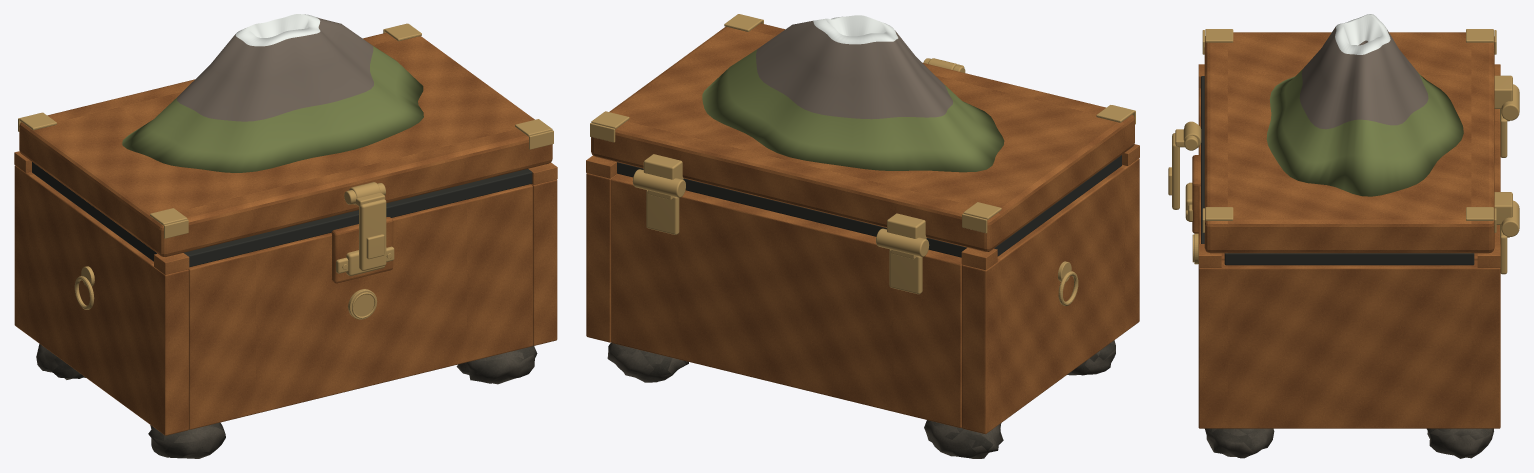
File: tanzania.glb
The picture shows the model from 3 angles, left to right: view 1: azimuth 30°, elevation 25°; view 2: azimuth 150°, elevation 25°; view 3: azimuth 270°, elevation 25°; orthographic projection.
Parts seen in each view (by area): view 1: Ochre / front, Lid / polished slab, Terrain / Kibo crater and shoulder, Ochre / side, Mineral seam / long, Ochre / side.001, Volcanic foot, Volcanic foot.002, Latch / lifting hasp, Ochre / clasp seat, Mineral seam / side, Volcanic foot.001 (+2 smaller); view 2: Ochre / rear, Lid / polished slab, Terrain / Kibo crater and shoulder, Ochre / side, Ochre / side.001, Mineral seam / long.001, Volcanic foot.001, Volcanic foot.003, Mineral seam / side, Hinge / fixed mount, Hinge / fixed mount.001, Hinge / fixed barrel.001 (+5 smaller); view 3: Ochre / side.001, Lid / polished slab, Terrain / Kibo crater and shoulder, Mineral seam / side.001, Volcanic foot.002, Volcanic foot.003, Ochre / rear, Mineral seam / long, Ochre / clasp seat, Hinge / moving leaf, Latch / lifting hasp, Hinge / moving leaf.001 (+8 smaller).
Part boxes in pixels (x1=…): Ochre / front: x1=188, y1=184, x2=532, y2=429; Lid / polished slab: x1=19, y1=32, x2=552, y2=256; Terrain / Kibo crater and shoulder: x1=122, y1=14, x2=423, y2=172; Ochre / side: x1=14, y1=165, x2=188, y2=435; Mineral seam / long: x1=183, y1=169, x2=532, y2=267; Ochre / side.001: x1=531, y1=179, x2=557, y2=345; Volcanic foot: x1=148, y1=422, x2=225, y2=458; Volcanic foot.002: x1=456, y1=345, x2=537, y2=384; Latch / lifting hasp: x1=359, y1=199, x2=386, y2=270; Ochre / clasp seat: x1=331, y1=217, x2=393, y2=283; Mineral seam / side: x1=32, y1=162, x2=156, y2=261; Volcanic foot.001: x1=36, y1=344, x2=85, y2=379; Ochre / rear: x1=611, y1=174, x2=961, y2=427; Lid / polished slab: x1=591, y1=23, x2=1134, y2=251; Terrain / Kibo crater and shoulder: x1=702, y1=15, x2=1004, y2=172; Ochre / side: x1=962, y1=158, x2=1139, y2=434; Ochre / side.001: x1=586, y1=173, x2=617, y2=342; Mineral seam / long.001: x1=617, y1=162, x2=966, y2=257; Volcanic foot.001: x1=924, y1=420, x2=1003, y2=458; Volcanic foot.003: x1=607, y1=342, x2=688, y2=382; Mineral seam / side: x1=994, y1=155, x2=1121, y2=256; Hinge / fixed mount: x1=889, y1=249, x2=922, y2=294; Hinge / fixed mount.001: x1=646, y1=190, x2=679, y2=234; Hinge / fixed barrel.001: x1=632, y1=169, x2=685, y2=197; Ochre / side.001: x1=1198, y1=260, x2=1500, y2=428; Lid / polished slab: x1=1204, y1=32, x2=1494, y2=253; Terrain / Kibo crater and shoulder: x1=1266, y1=14, x2=1463, y2=196; Mineral seam / side.001: x1=1224, y1=253, x2=1474, y2=265; Volcanic foot.002: x1=1205, y1=428, x2=1274, y2=458; Volcanic foot.003: x1=1427, y1=428, x2=1493, y2=458; Ochre / rear: x1=1494, y1=109, x2=1500, y2=243; Mineral seam / long: x1=1201, y1=76, x2=1204, y2=243; Ochre / clasp seat: x1=1192, y1=155, x2=1200, y2=233; Hinge / moving leaf: x1=1494, y1=75, x2=1512, y2=108; Latch / lifting hasp: x1=1172, y1=133, x2=1179, y2=209; Hinge / moving leaf.001: x1=1494, y1=192, x2=1512, y2=224.
Bounding box in the file's own units: 3.79 × 3.17 × 2.88.
7 materials, 2 textured.
